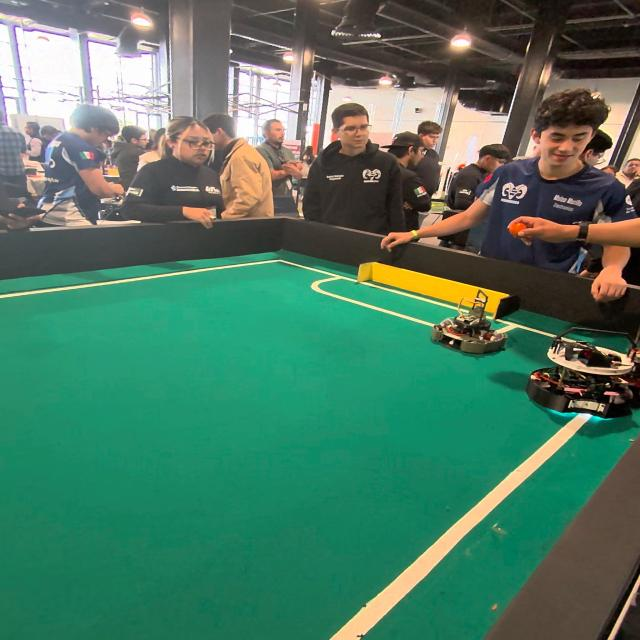Robot: (526, 323, 637, 428), (428, 286, 504, 356)
